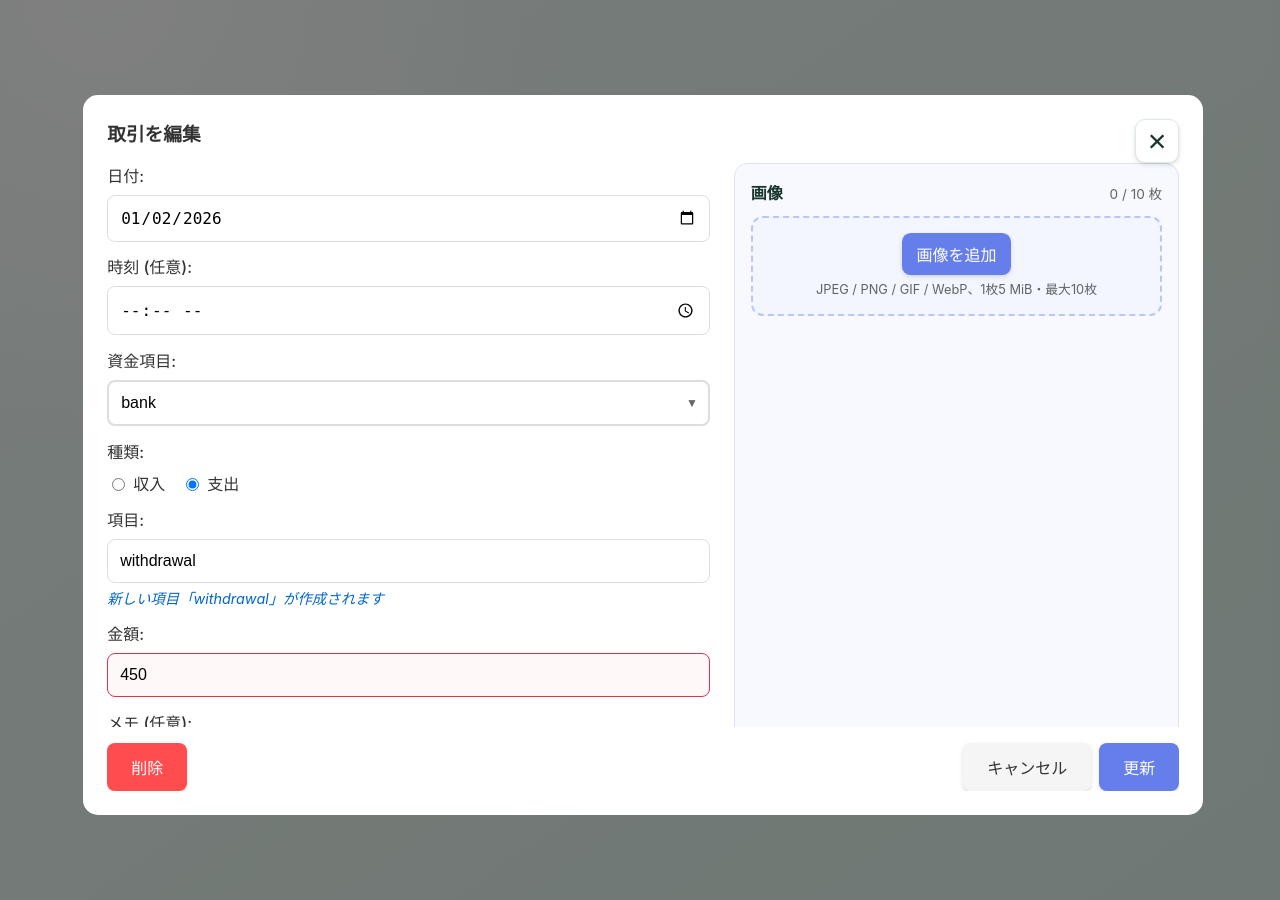
Test case: TransactionModal › shows a bank total net of refunds, updates on edits, and saves a mismatch
The image size is (1280, 900).
Replace the text in the field below "金額:" with "500". click: (408, 675)
box: [107,653,710,697]
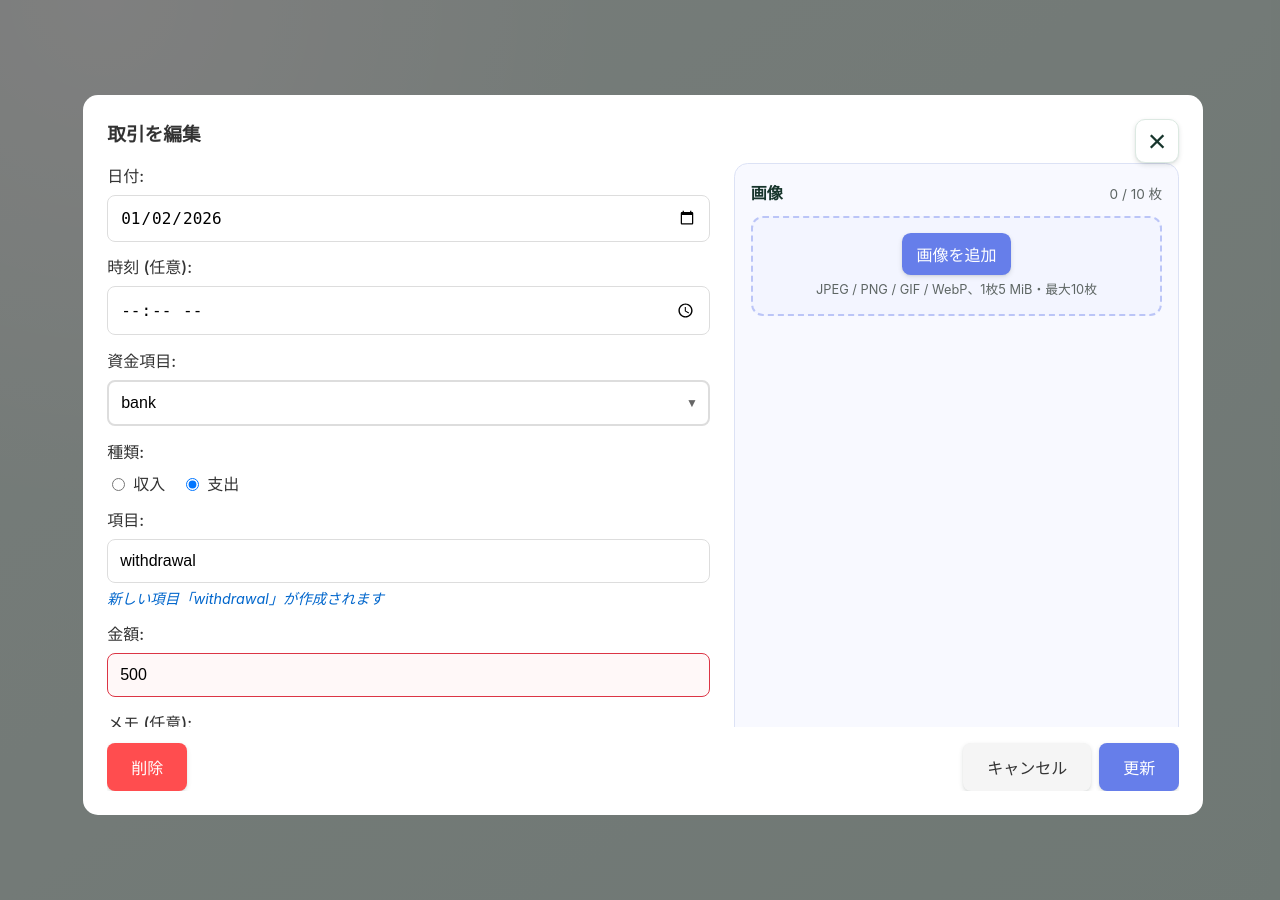
Submit the form, box [107,162,1179,790]
(page scrolled)
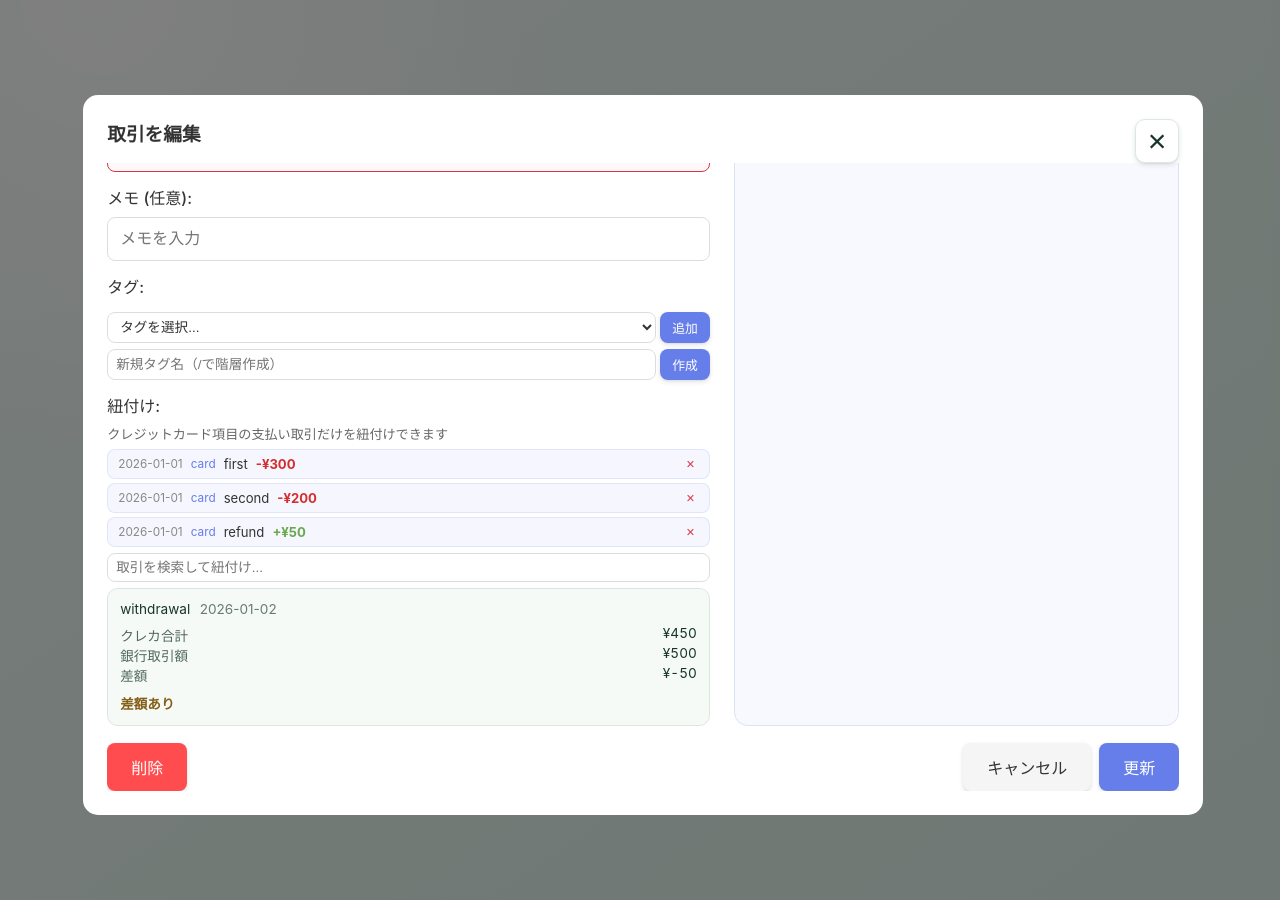
Click the button with class "link-remove" in the row of "+¥50". click: (690, 532)
box: [682,525,699,539]
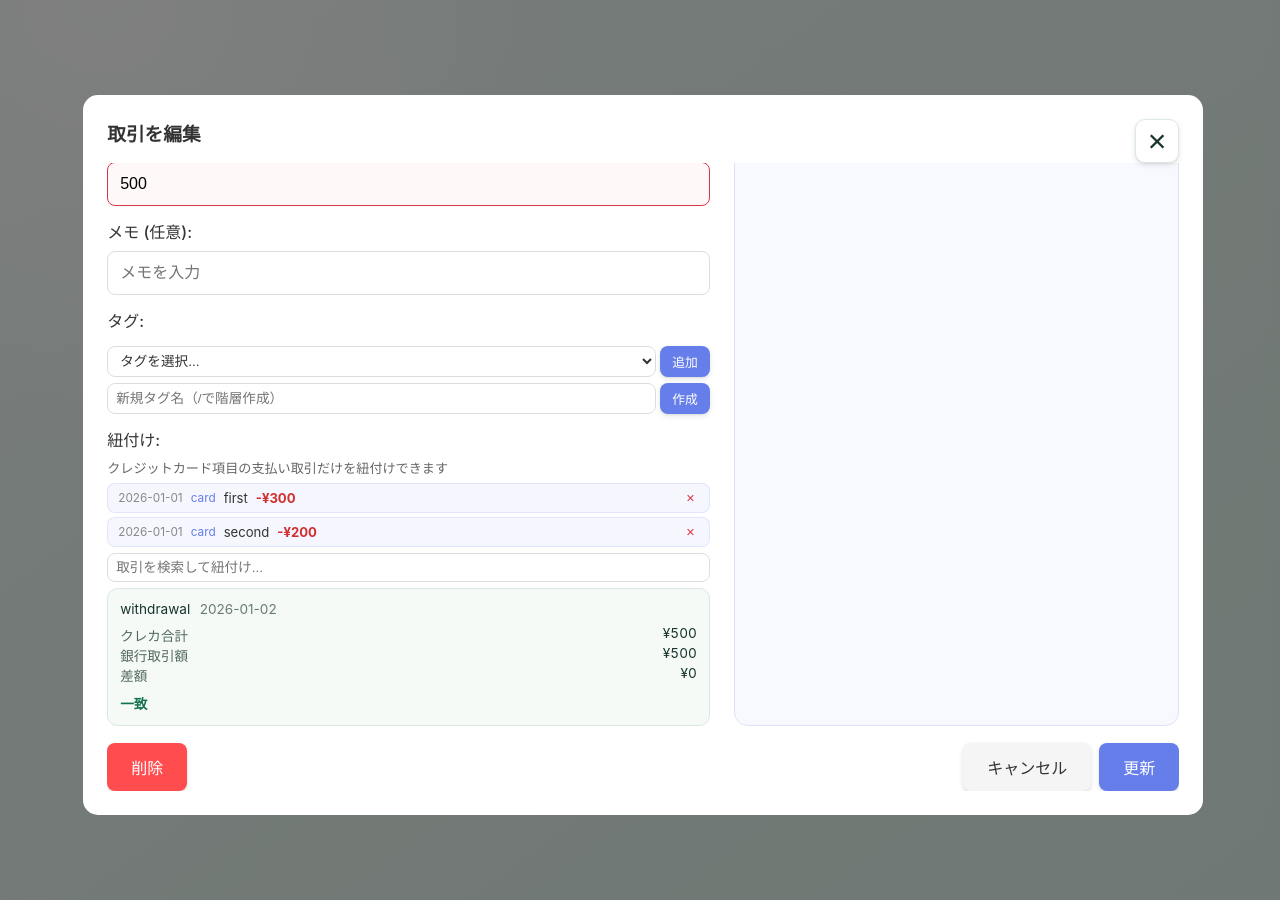
Result: the text "一致" is shown at [120,696,147,712]
